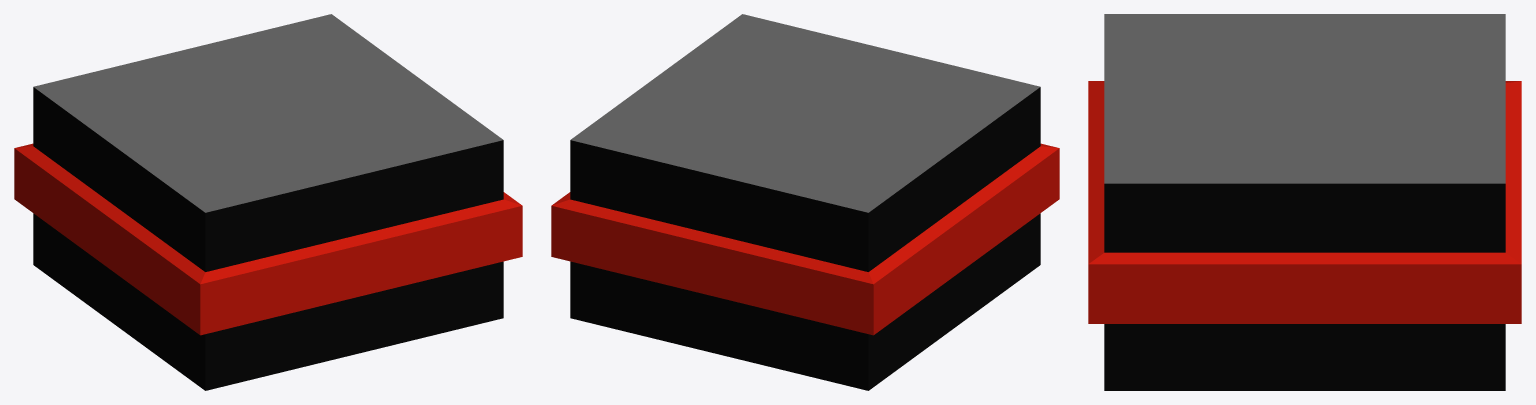
Rendered from block.fbx.
3 views of the same model, side by side, from view 1: azimuth 30°, elevation 25°; view 2: azimuth 150°, elevation 25°; view 3: azimuth 270°, elevation 25° (orthographic). The views are drawn at different scales.
Visible parts, largest first — view 1: Cube; view 2: Cube; view 3: Cube.
Part boxes in pixels (bbox=[...]): Cube: bbox=[14, 14, 522, 390]; Cube: bbox=[551, 14, 1059, 390]; Cube: bbox=[1088, 14, 1521, 390].
Size of the model in its own units: 788 by 416 by 788.
